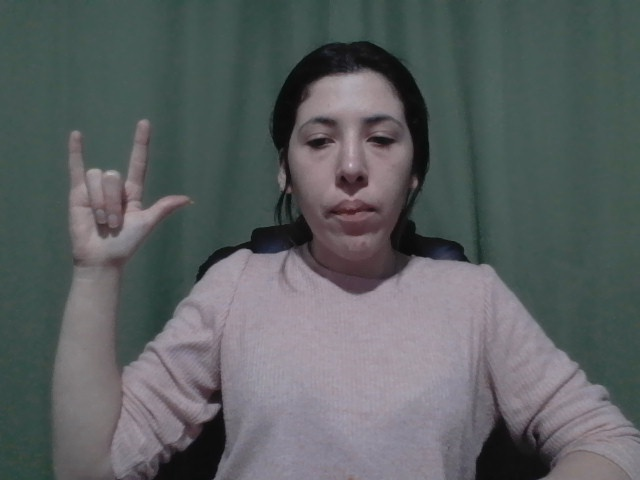AMOR: (60, 116, 196, 269)
